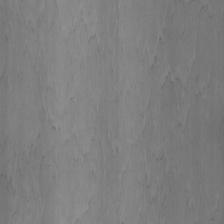silk_spot: (134, 23, 209, 193)
